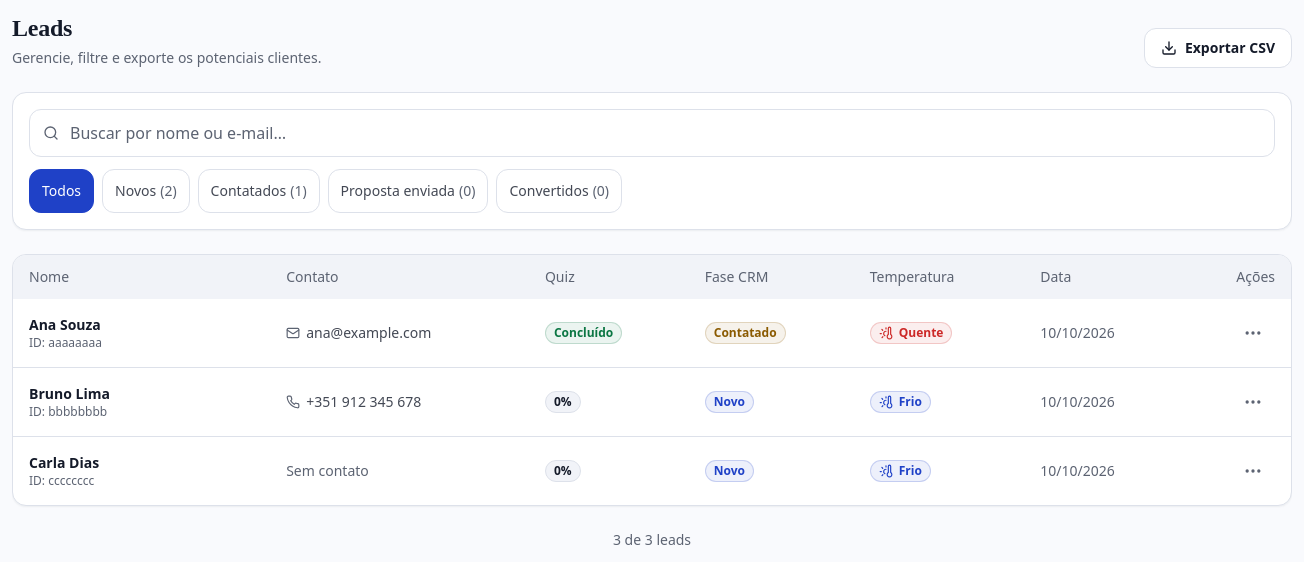
Test: AdminLeadsPage (DI-073 / DI-088 / DI-080) › filtra por fase com contagem nos botões
The image size is (1304, 562).
Click the button "Contatados (1)": (259, 191) [198, 169, 320, 213]
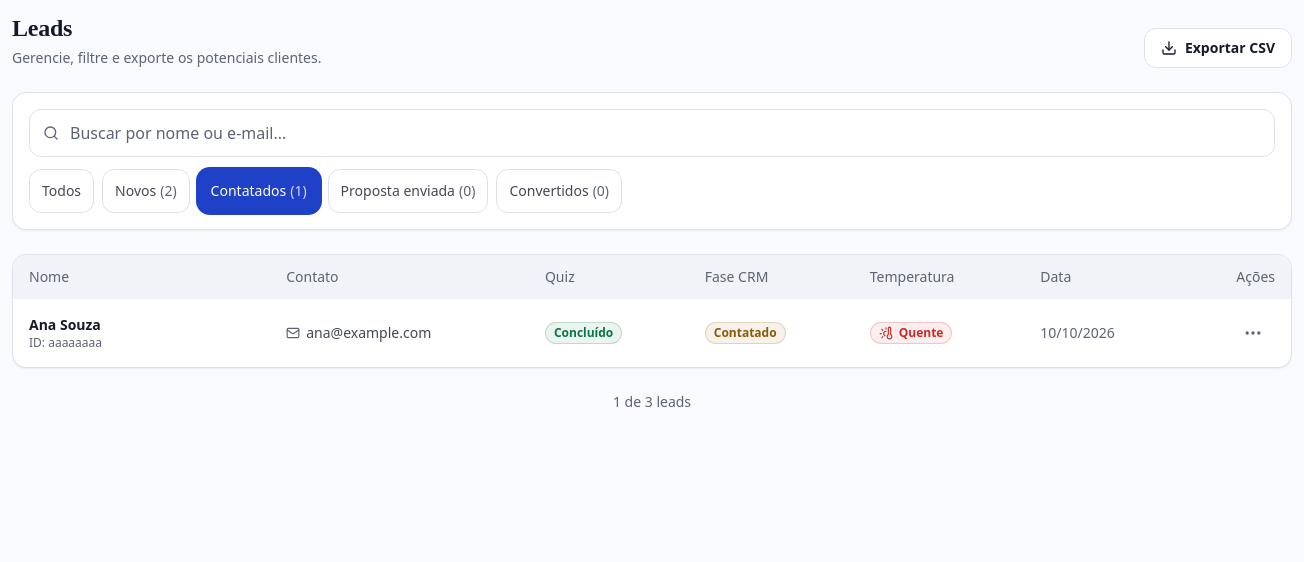
Check: the text "Bruno Lima" is gone
Check: the text "1 de 3 leads" is shown, box [613, 392, 691, 411]
Click the button "Novos (2)": (146, 191) [102, 169, 190, 213]
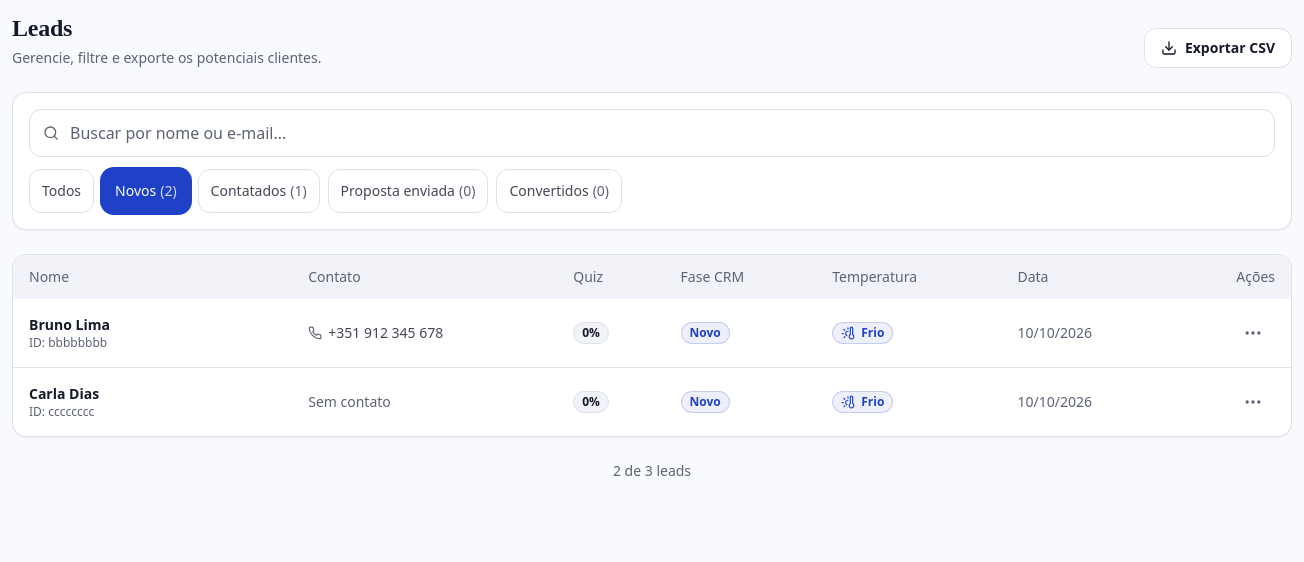
Check: the text "Ana Souza" is gone
